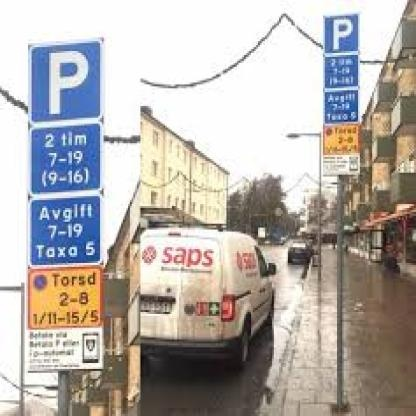P-skylt: (25, 40, 110, 124), (322, 11, 361, 55)
